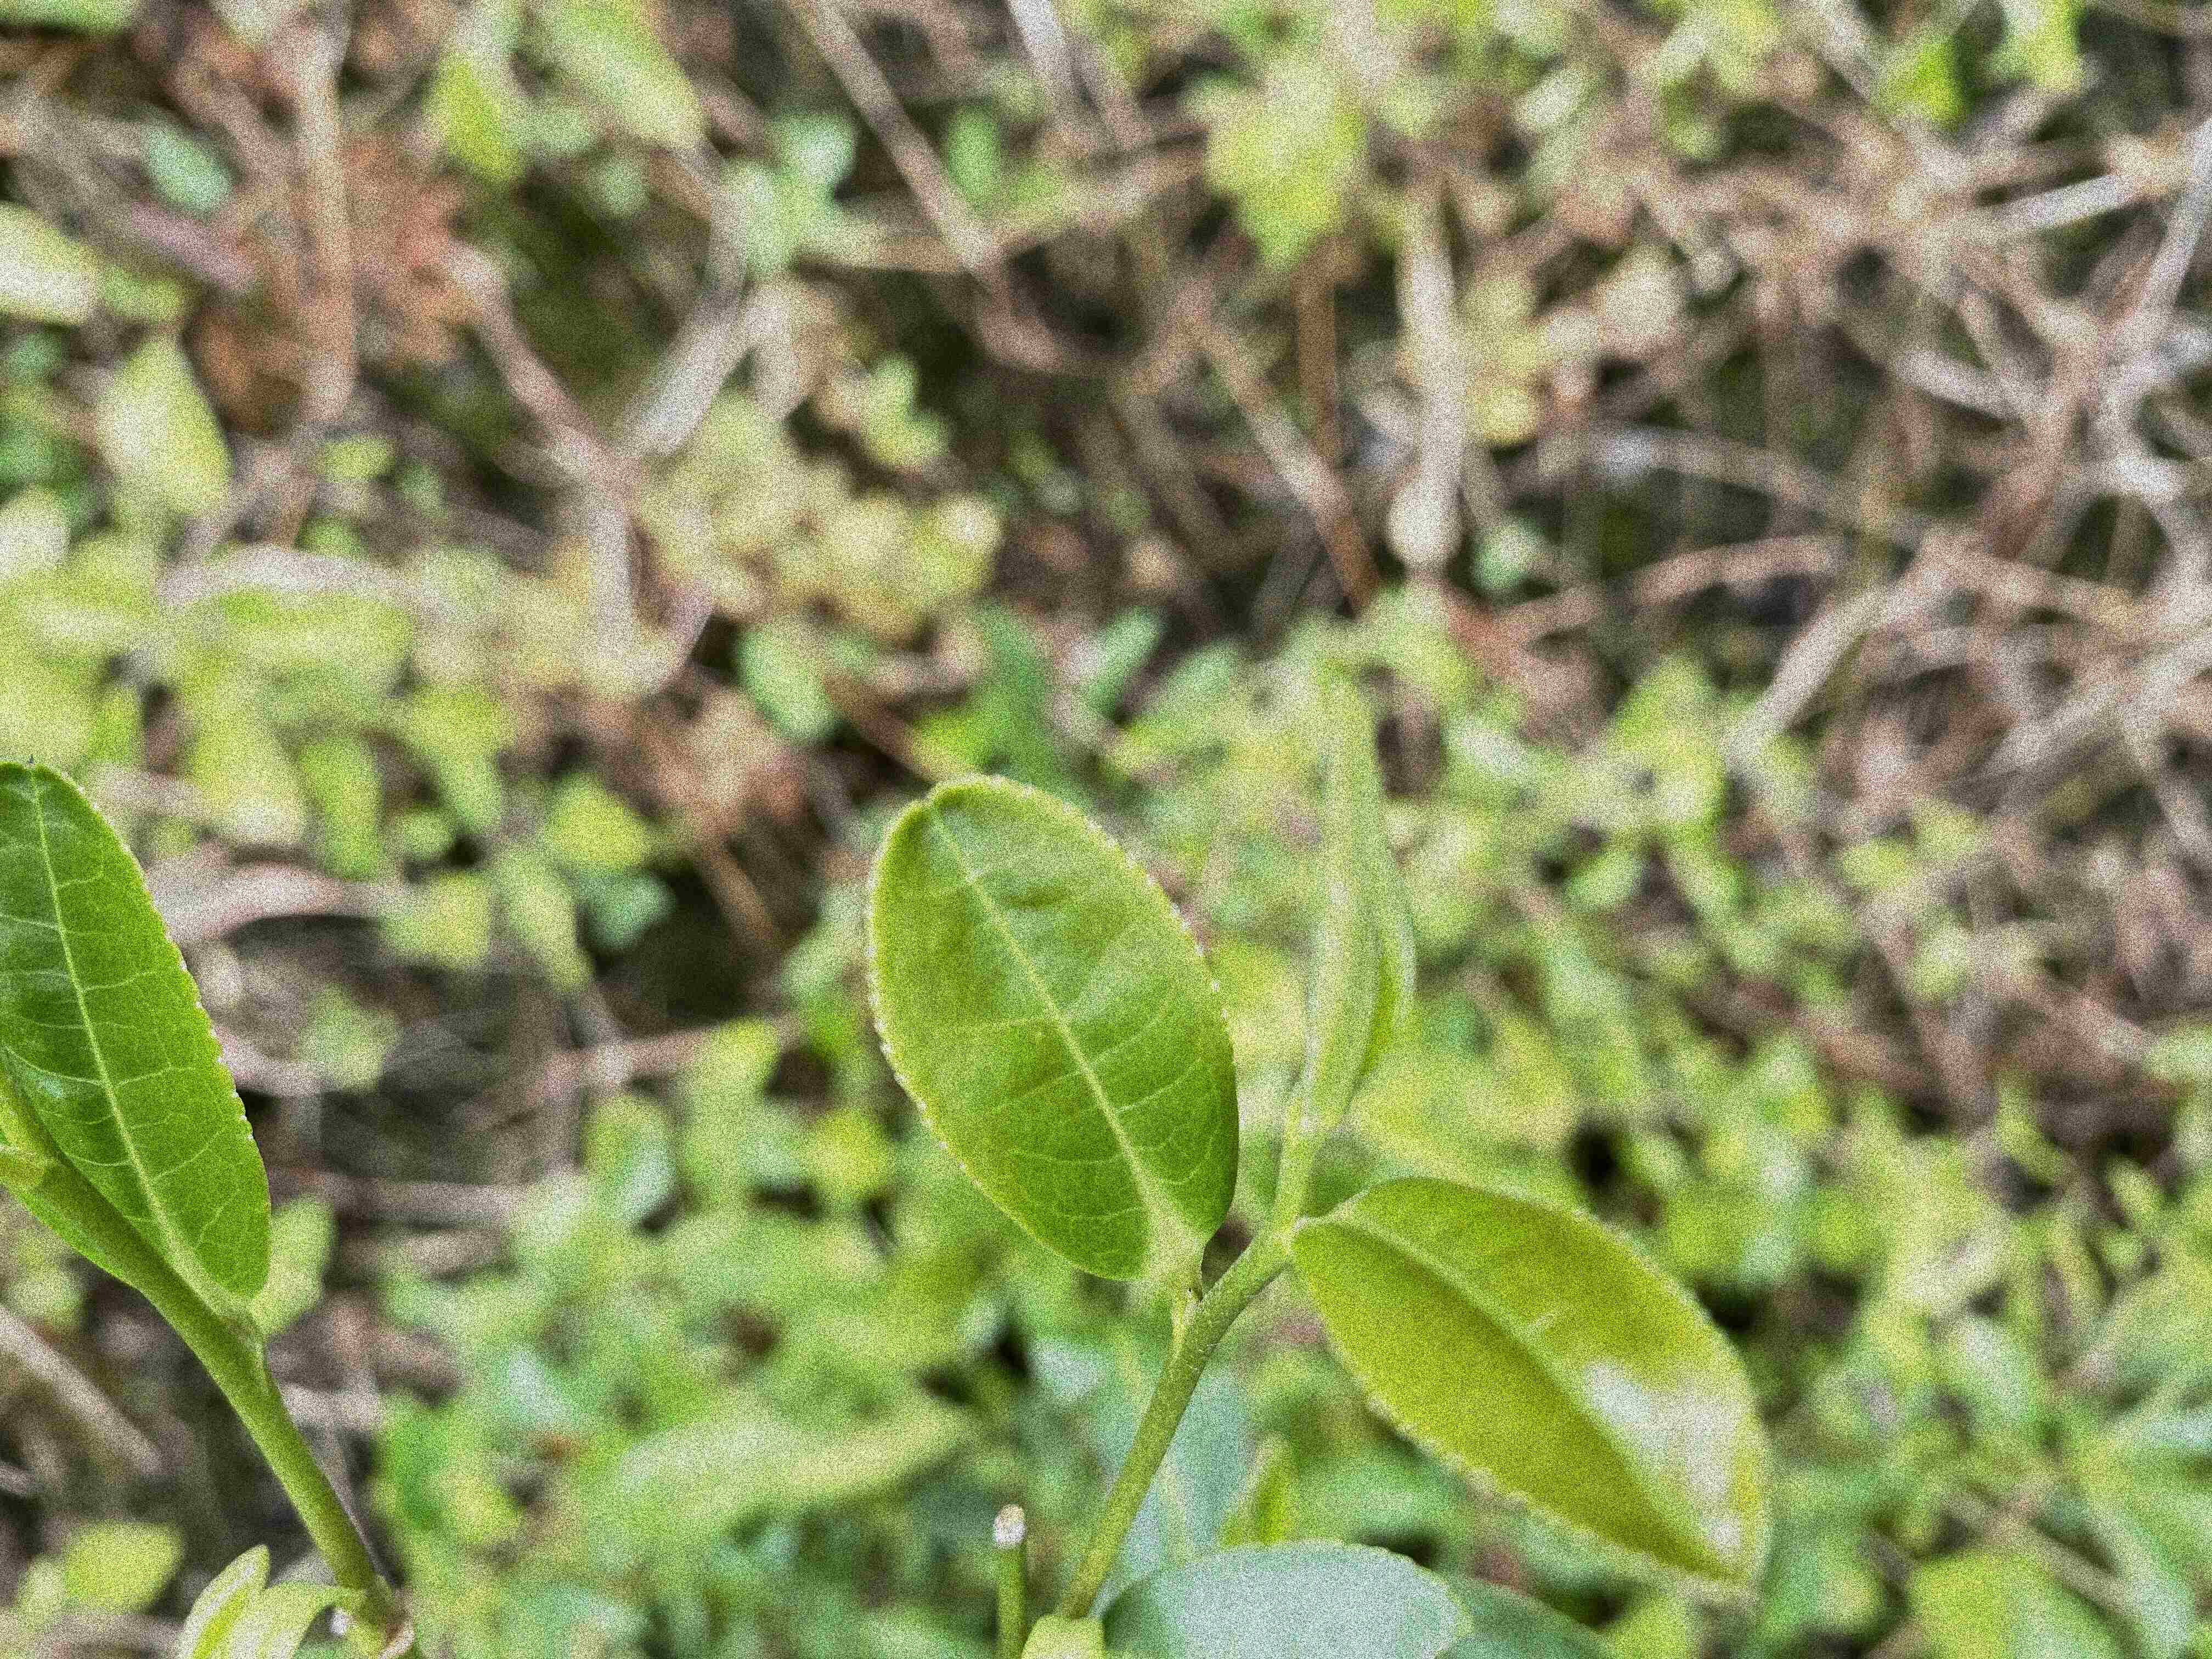healthy: (859, 772, 1240, 1283), (1299, 1180, 1771, 1589), (5, 749, 277, 1305)
